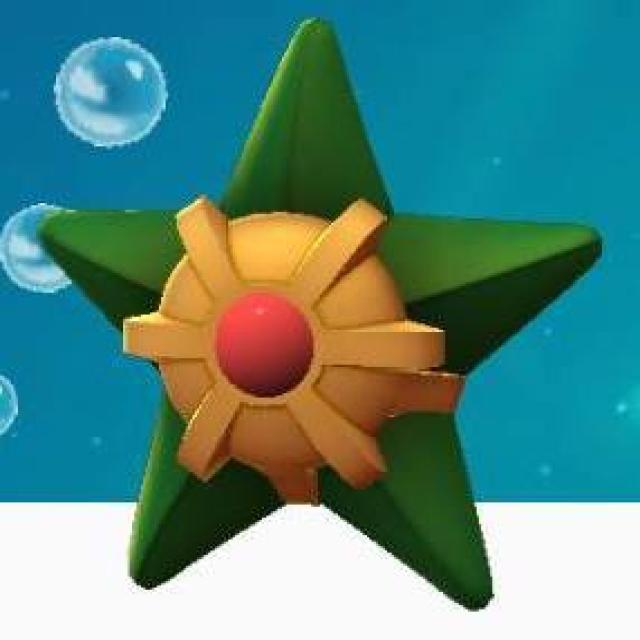Staryu: (45, 22, 599, 592)
